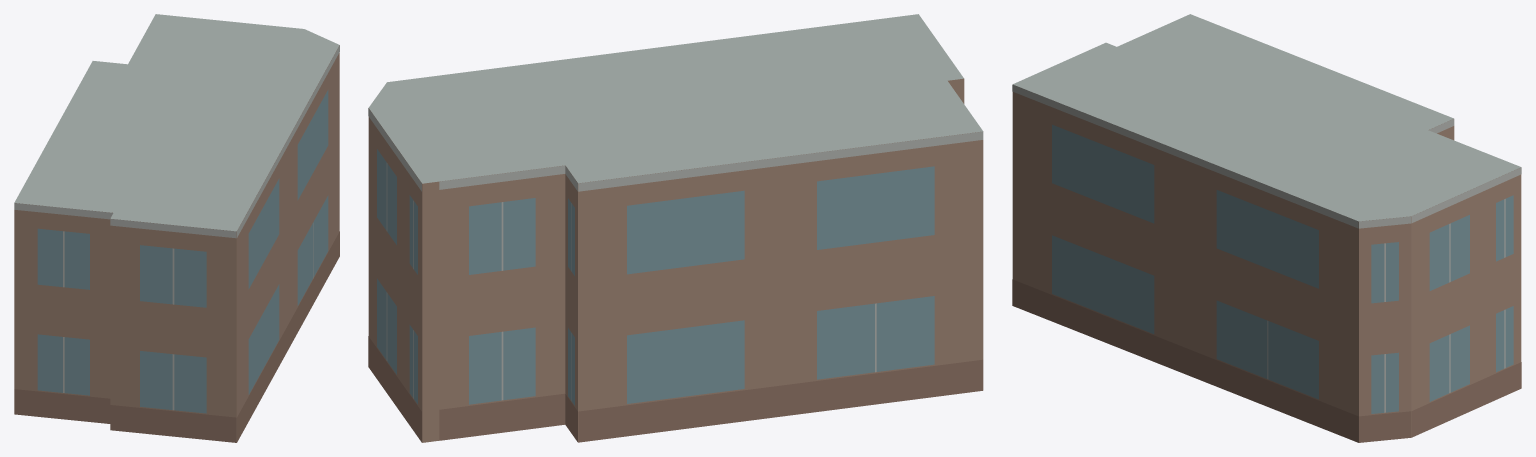
The model's file is survey-upis-32755529.glb.
3 renders of one model, left to right at view 1: azimuth 30°, elevation 25°; view 2: azimuth 150°, elevation 25°; view 3: azimuth 270°, elevation 25°, orthographic. The views are drawn at different scales.
Visible parts, largest first — view 1: survey-upis-32755529.tmp; view 2: survey-upis-32755529.tmp; view 3: survey-upis-32755529.tmp.
Boxes of the visible parts, bbox=[...] form: survey-upis-32755529.tmp: bbox=[14, 14, 339, 442]; survey-upis-32755529.tmp: bbox=[368, 14, 983, 442]; survey-upis-32755529.tmp: bbox=[1012, 14, 1521, 442].
Bounding box in the file's own units: 15.08 × 7.5 × 15.63.
